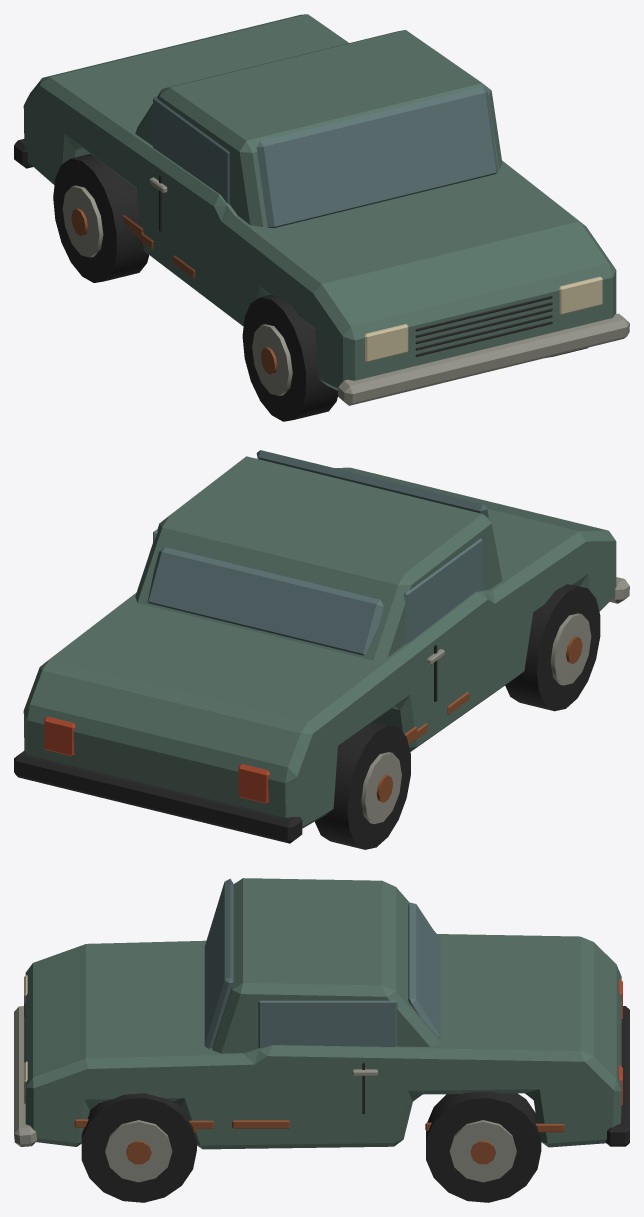
The model's file is wreck.glb.
The picture shows the model from 3 angles, top to bottom: view 1: azimuth 30°, elevation 25°; view 2: azimuth 150°, elevation 25°; view 3: azimuth 270°, elevation 25°; orthographic projection. The views are drawn at different scales.
Visible parts, largest first — view 1: Oxidized forest service enamel, Grimy blue glass, Rubber and voids, Scuffed chrome, Clouded headlamp, Bare rust; view 2: Oxidized forest service enamel, Grimy blue glass, Rubber and voids, Scuffed chrome, Cracked tail lens, Bare rust; view 3: Oxidized forest service enamel, Rubber and voids, Grimy blue glass, Scuffed chrome, Bare rust.
Part boxes in pixels (bbox=[...]): Oxidized forest service enamel: bbox=[23, 14, 616, 390]; Grimy blue glass: bbox=[153, 87, 498, 228]; Rubber and voids: bbox=[14, 139, 587, 421]; Scuffed chrome: bbox=[62, 177, 629, 405]; Clouded headlamp: bbox=[364, 276, 602, 362]; Bare rust: bbox=[71, 208, 277, 374]; Oxidized forest service enamel: bbox=[23, 456, 616, 828]; Grimy blue glass: bbox=[147, 450, 488, 655]; Rubber and voids: bbox=[14, 584, 600, 849]; Scuffed chrome: bbox=[361, 577, 629, 824]; Cracked tail lens: bbox=[44, 716, 269, 803]; Bare rust: bbox=[376, 636, 582, 802]; Oxidized forest service enamel: bbox=[25, 878, 621, 1149]; Rubber and voids: bbox=[24, 1003, 629, 1202]; Grimy blue glass: bbox=[204, 878, 440, 1048]; Scuffed chrome: bbox=[14, 1006, 516, 1182]; Bare rust: bbox=[74, 1119, 564, 1164].
Bounding box in the file's own units: 2.03 × 1.45 × 3.86.
